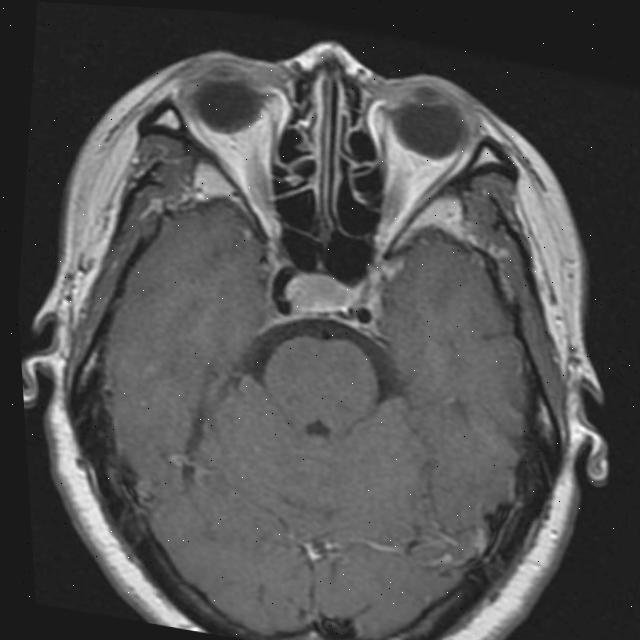Pituitary: (278, 267, 357, 319)
